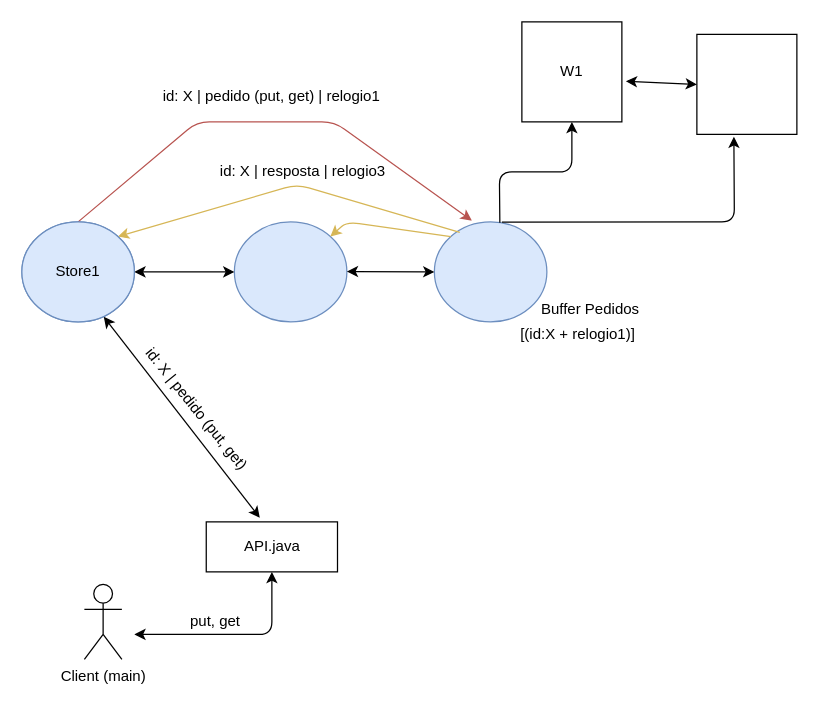
The diagram is 819 pixels wide and 708 high, and some of its shapes have lost their labels. The shapes that lost their labels are listed below. From the top down, each one's centre as x and y in pixels, then its label:
the point at 746,83: W2
the point at 290,271: Store2
the point at 490,271: Store3
